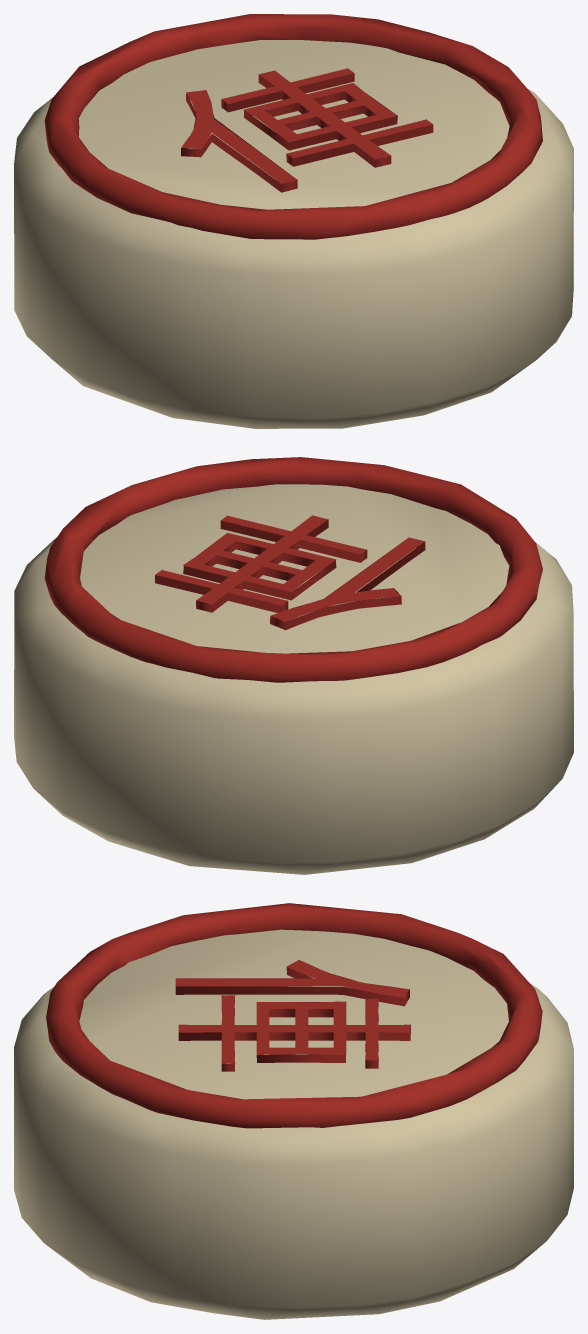
File: quan_do_xe.glb
The picture shows the model from 3 angles, top to bottom: view 1: azimuth 30°, elevation 25°; view 2: azimuth 150°, elevation 25°; view 3: azimuth 270°, elevation 25°; orthographic projection.
Visible parts, largest first — view 1: quan_do_xe; view 2: quan_do_xe; view 3: quan_do_xe.
Part boxes in pixels (x1,y1,x2,y2): quan_do_xe: (14,14,573,428); quan_do_xe: (14,457,573,874); quan_do_xe: (14,903,573,1319).
Size of the model in its own units: 0.0367 by 0.0153 by 0.0367.
